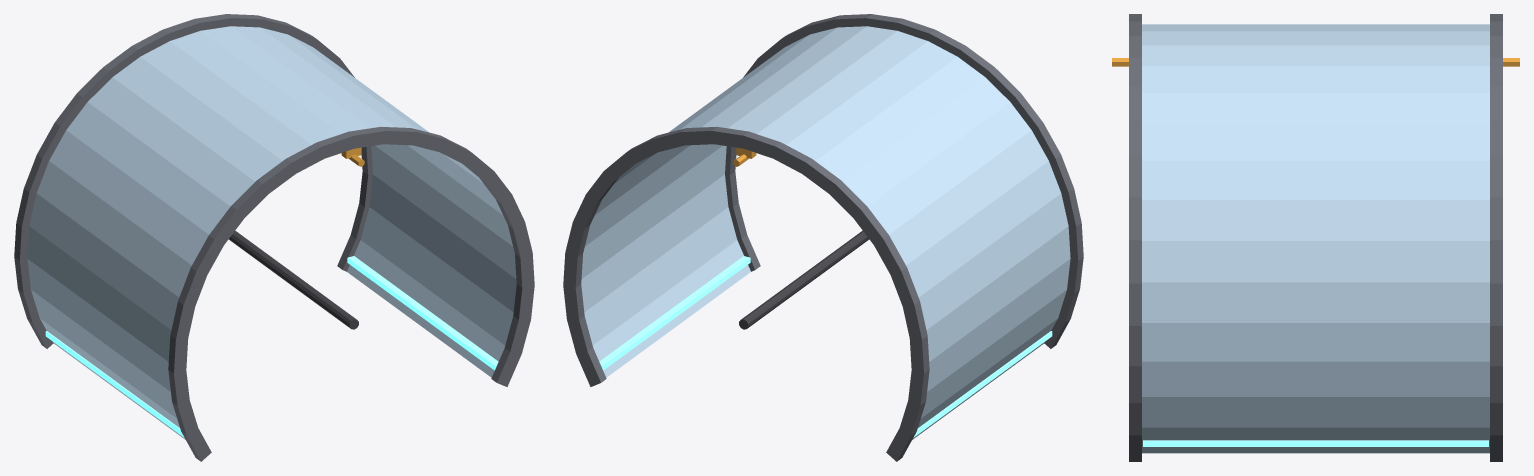
File: zip_tunnel.glb
3 views of the same model, side by side, from view 1: azimuth 30°, elevation 25°; view 2: azimuth 150°, elevation 25°; view 3: azimuth 270°, elevation 25° (orthographic). The views are drawn at different scales.
Parts seen in each view (by area): view 1: Glass, Ribs, Neon, Cable; view 2: Glass, Ribs, Neon, Cable; view 3: Glass, Ribs, Neon.
Part boxes in pixels (box(x1,y1,x2,y2)): Glass: box(27, 26, 516, 439); Ribs: box(14, 14, 534, 461); Neon: box(45, 256, 498, 437); Cable: box(228, 230, 358, 329); Glass: box(581, 26, 1070, 439); Ribs: box(563, 14, 1083, 461); Neon: box(599, 256, 1052, 437); Cable: box(739, 230, 869, 329); Glass: box(1142, 24, 1489, 453); Ribs: box(1129, 14, 1502, 461); Neon: box(1143, 440, 1488, 446).
Size of the model in its own units: 5.22 by 3.99 by 4.36.
